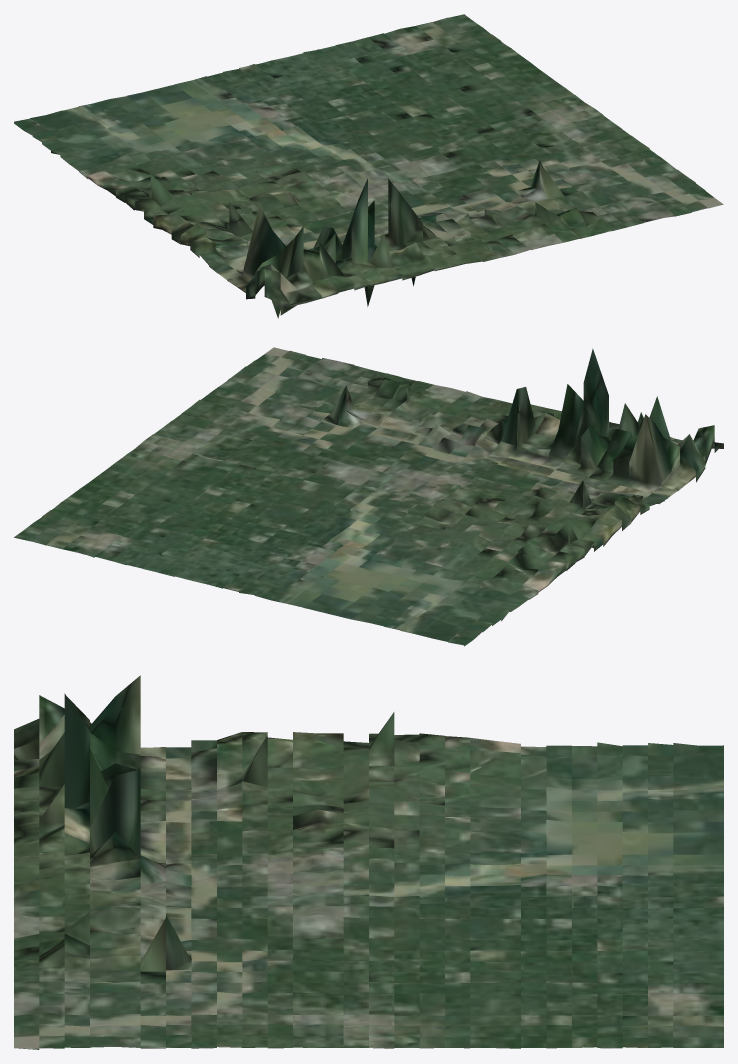
The model's file is satelliteTerrain.glb.
The picture shows the model from 3 angles, top to bottom: view 1: azimuth 30°, elevation 25°; view 2: azimuth 150°, elevation 25°; view 3: azimuth 270°, elevation 25°; orthographic projection. The views are drawn at different scales.
Visible parts, largest first — view 1: groundNew; view 2: groundNew; view 3: groundNew.
Boxes of the visible parts, <box> form: groundNew: <box>14,14,723,318</box>; groundNew: <box>14,347,723,646</box>; groundNew: <box>14,675,723,1049</box>.
Size of the model in its own units: 0.9916 by 0.2901 by 0.9916.
1 material, 1 textured.
